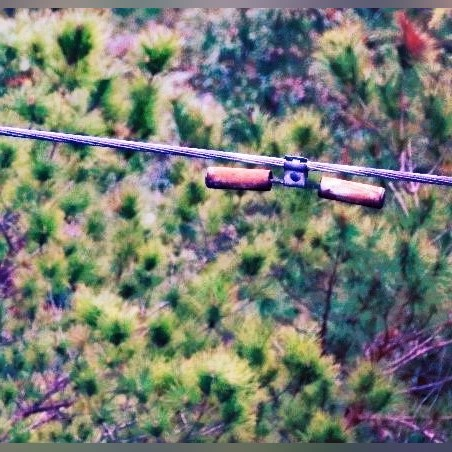Shockproof hammer: (202, 143, 391, 214)
